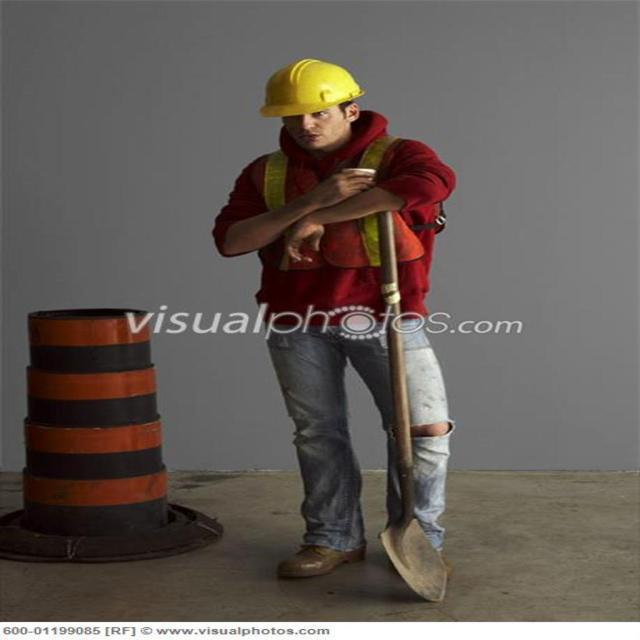Face: (273, 94, 366, 154)
